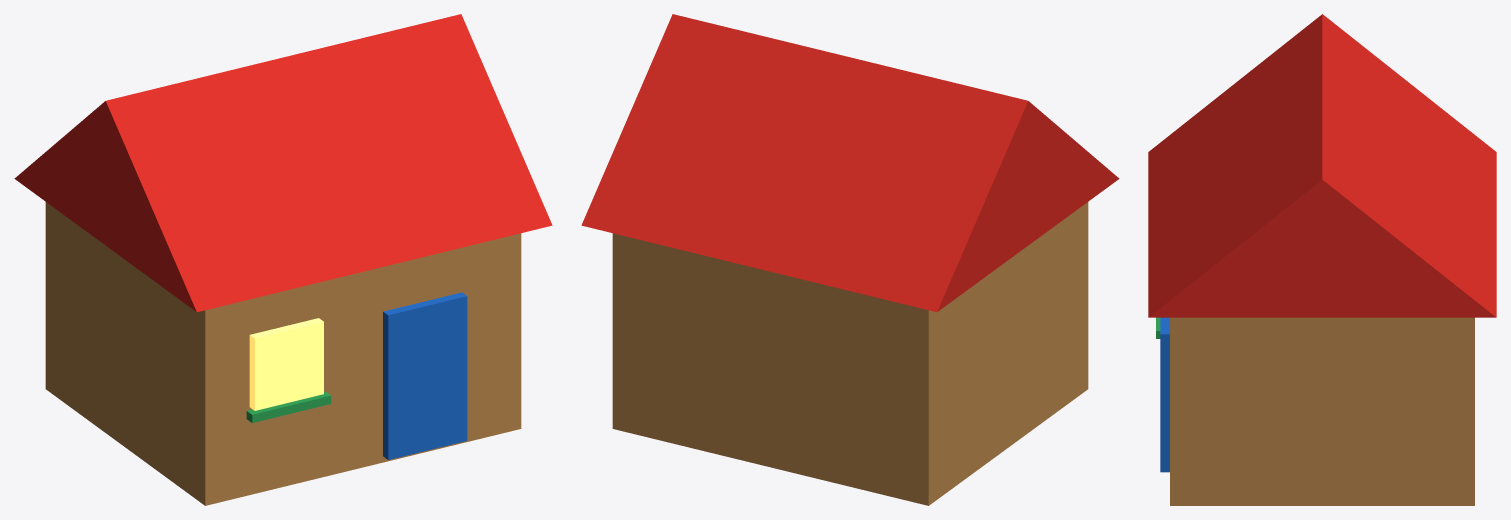
Rendered from playhouse.glb.
The picture shows the model from 3 angles, left to right: view 1: azimuth 30°, elevation 25°; view 2: azimuth 150°, elevation 25°; view 3: azimuth 270°, elevation 25°; orthographic projection. The views are drawn at different scales.
Visible parts, largest first — view 1: playhouse; view 2: playhouse; view 3: playhouse.
Boxes of the visible parts, x1,y1,x2,y2 form: playhouse: (14, 14, 552, 505); playhouse: (581, 14, 1119, 505); playhouse: (1148, 14, 1496, 505).
Bounding box in the file's own units: 1.8 × 1.7 × 1.6.
